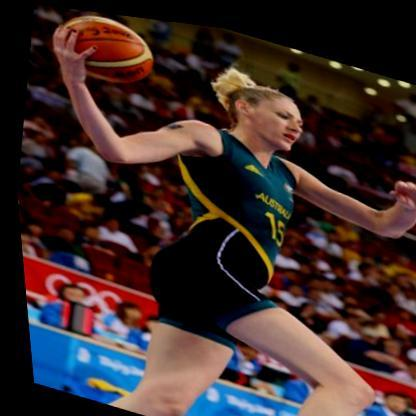basketball: (45, 4, 159, 92)
